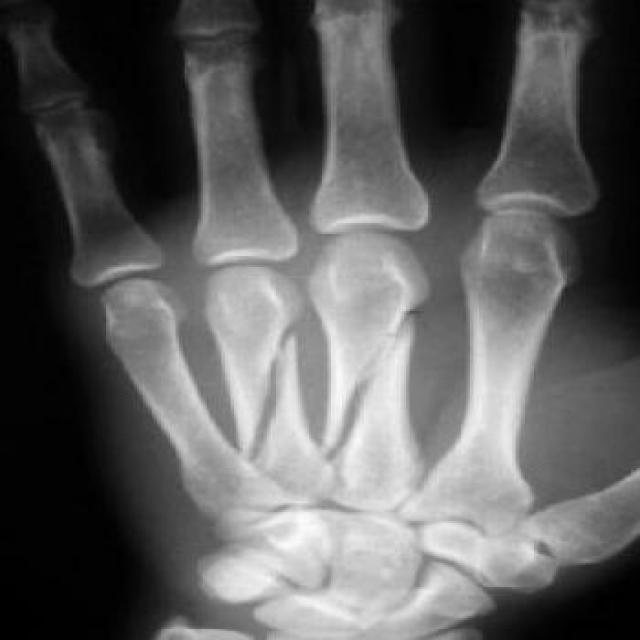Fracture: (324, 304, 435, 447), (229, 318, 309, 457)
